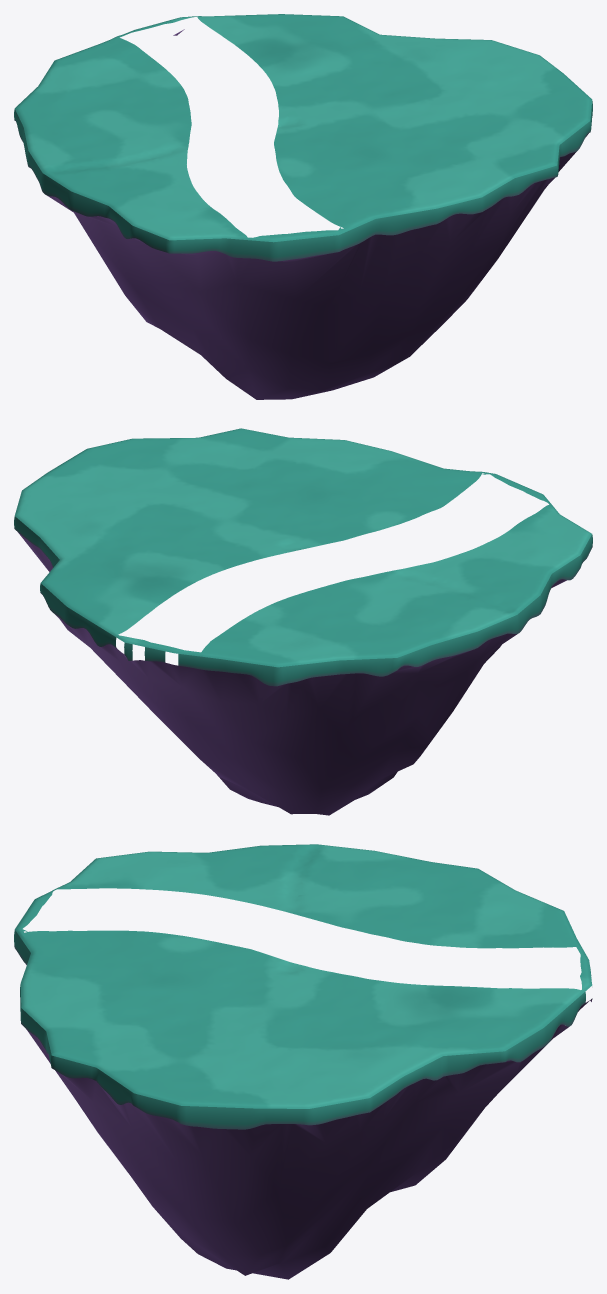
The model's file is rkit_hub.island.glb.
The picture shows the model from 3 angles, top to bottom: view 1: azimuth 30°, elevation 25°; view 2: azimuth 150°, elevation 25°; view 3: azimuth 270°, elevation 25°; orthographic projection. The views are drawn at different scales.
Parts seen in each view (by area): view 1: ground, under, band; view 2: ground, under, band; view 3: ground, under, band.
Boxes of the visible parts, bbox=[...] form: ground: bbox=[15, 14, 592, 242]; under: bbox=[47, 29, 588, 399]; band: bbox=[14, 101, 592, 261]; ground: bbox=[14, 428, 591, 667]; under: bbox=[18, 532, 566, 815]; band: bbox=[14, 516, 592, 686]; ground: bbox=[15, 844, 592, 1108]; under: bbox=[26, 964, 592, 1279]; band: bbox=[14, 930, 592, 1129].
Bounding box in the file's own units: 134 × 68.83 × 124.
